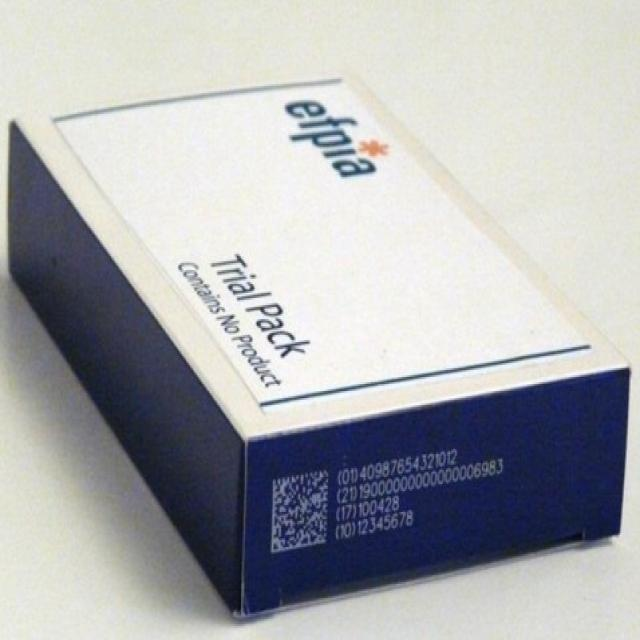datamatrix: (262, 459, 335, 563)
